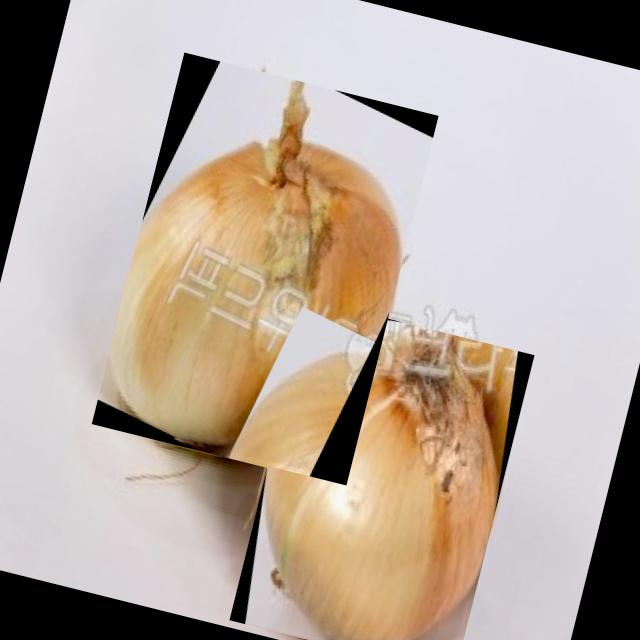healthy: (108, 81, 400, 446), (264, 327, 497, 640)
